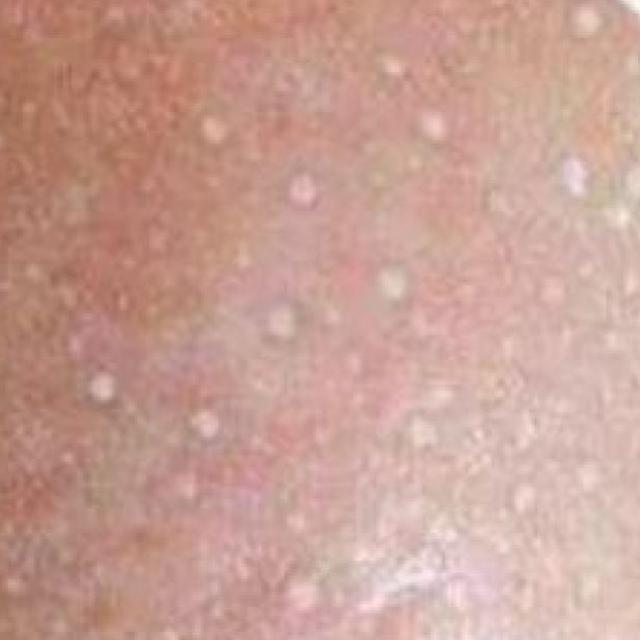whitehead: (92, 40, 615, 547)
